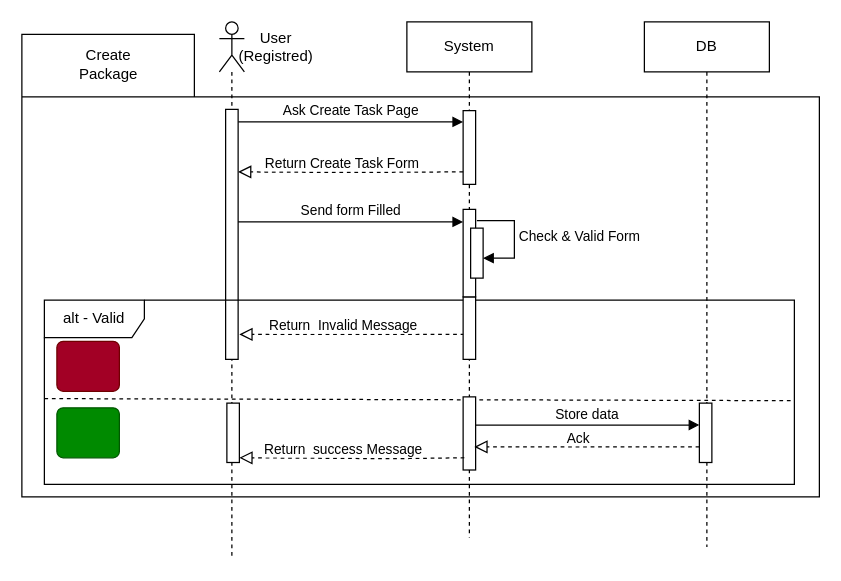
This 841x581 diagram has some shape labels left out. The shapes that lost their labels are listed below. From the top down, each one's centre as x and y in pixels, then its label:
the point at 87,365: NOK
the point at 87,432: OK
